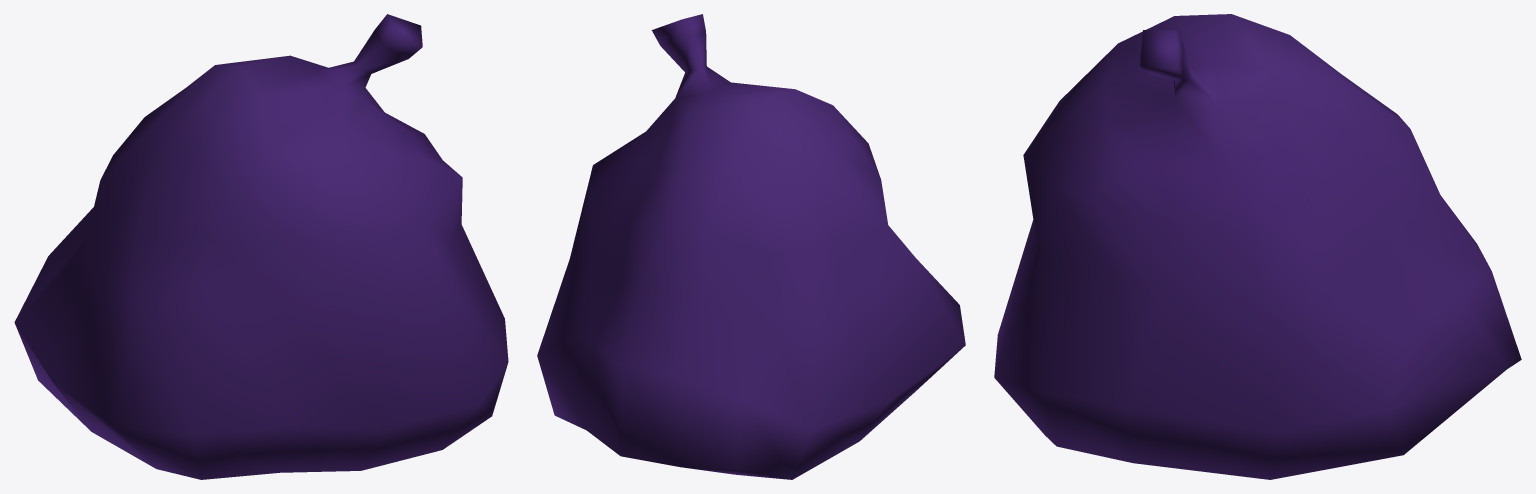
File: garbageBag2.fbx
The picture shows the model from 3 angles, left to right: view 1: azimuth 30°, elevation 25°; view 2: azimuth 150°, elevation 25°; view 3: azimuth 270°, elevation 25°; orthographic projection. The views are drawn at different scales.
Visible parts, largest first — view 1: garbageBag.001; view 2: garbageBag.001; view 3: garbageBag.001.
Part boxes in pixels (x1=…): garbageBag.001: x1=14, y1=14, x2=508, y2=479; garbageBag.001: x1=537, y1=14, x2=965, y2=479; garbageBag.001: x1=994, y1=14, x2=1521, y2=479.
Size of the model in its own units: 178 by 170 by 193.
1 material, 1 textured.
